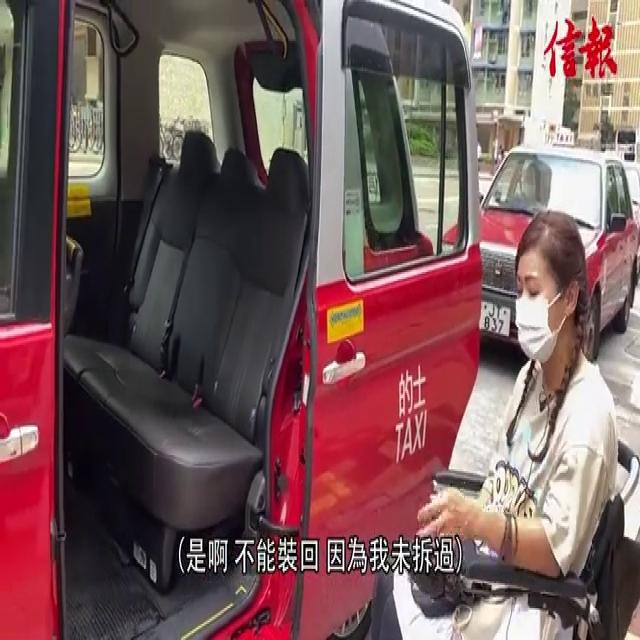wheelchairs: (413, 421, 640, 640)
